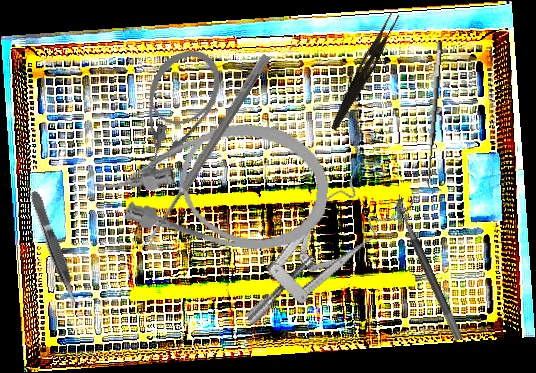Cannula: (88, 104, 336, 259), (113, 36, 235, 179)
Dressing Forceps: (329, 9, 400, 134)
Fixation Ring: (392, 193, 476, 342)
Hook Surgical: (422, 41, 455, 192)
Speculum: (210, 153, 425, 327)
Surgical Spoon: (140, 52, 271, 253)
Tissue Forceps: (27, 188, 82, 309)
